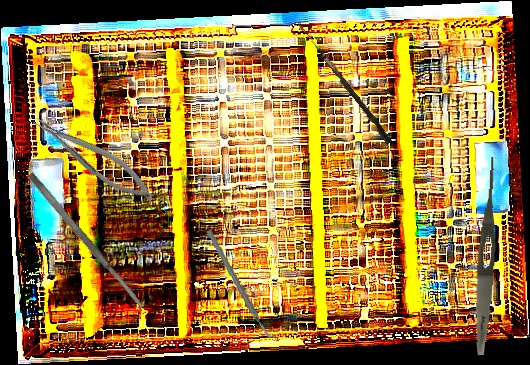Chopper: (204, 224, 278, 345)
Dressing Forceps: (471, 156, 501, 356)
Hook Surgical: (292, 21, 395, 146)
Needle Holder: (28, 104, 161, 212)
Spatula Surgical: (26, 171, 146, 311)
